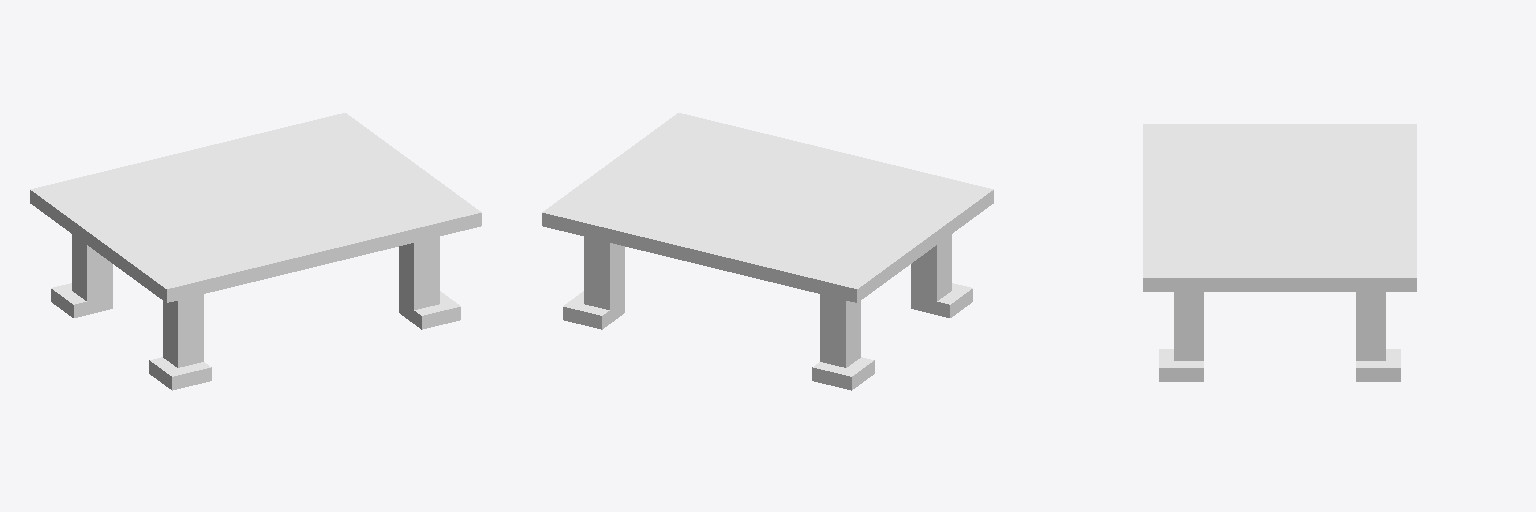
The model's file is BigTable.obj.
3 views of the same model, side by side, from view 1: azimuth 30°, elevation 25°; view 2: azimuth 150°, elevation 25°; view 3: azimuth 270°, elevation 25° (orthographic).
Size of the model in its own units: 24 by 8 by 18.